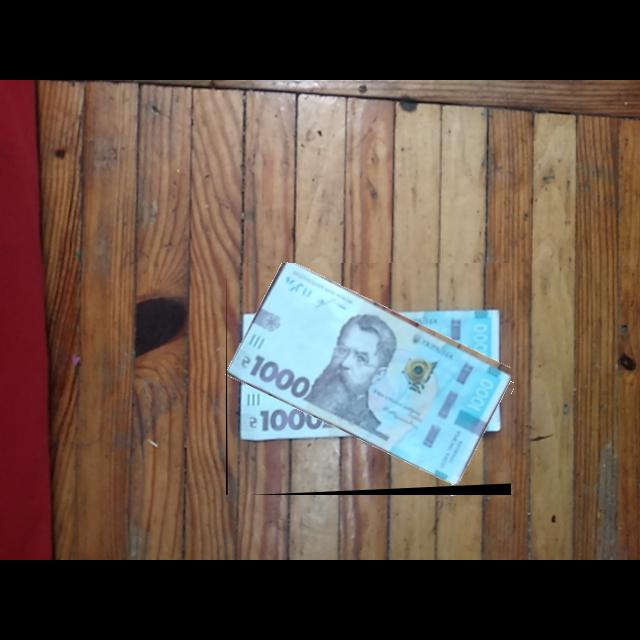1000uah: (227, 263, 512, 488)
